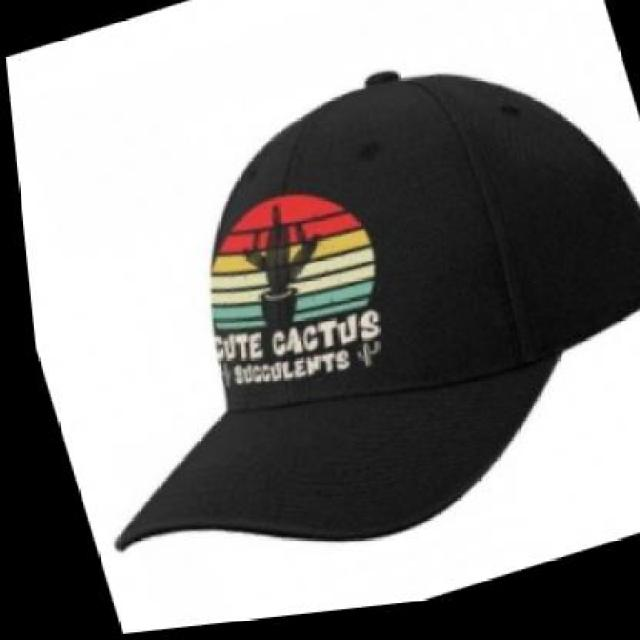hat: (4, 7, 640, 620)
